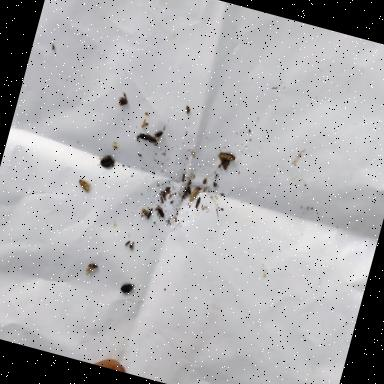pbw: (216, 148, 238, 166), (76, 176, 94, 194), (216, 156, 231, 171), (188, 185, 200, 203)
